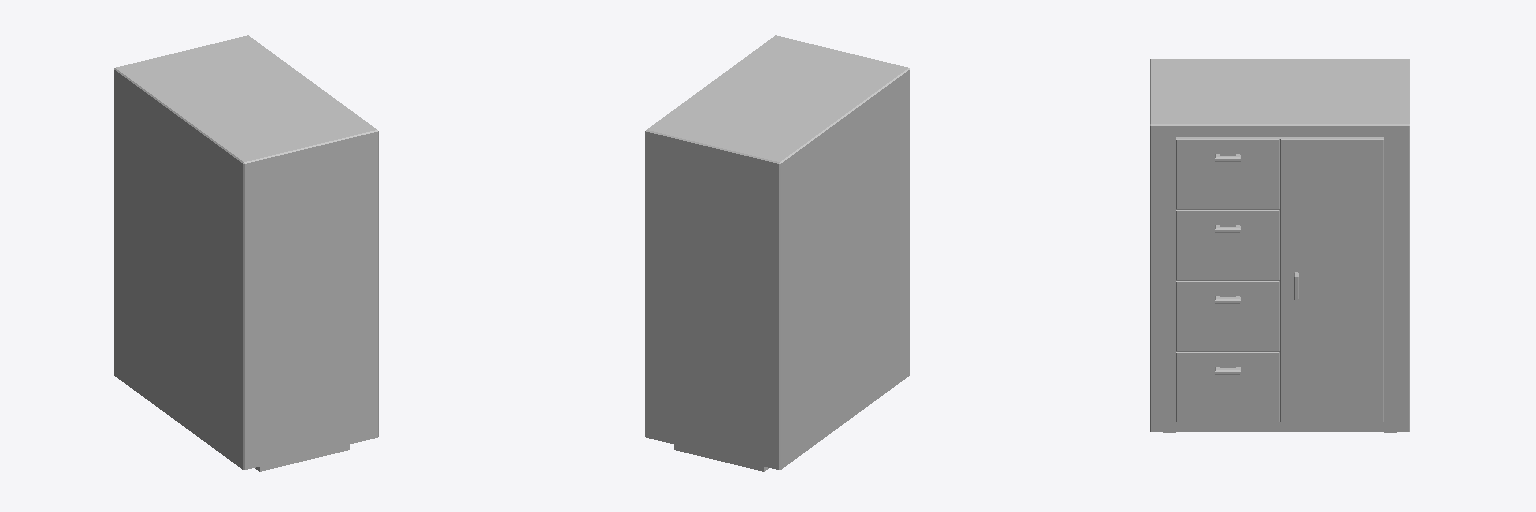
File: cupboard-small.obj
3 renders of one model, left to right at view 1: azimuth 30°, elevation 25°; view 2: azimuth 150°, elevation 25°; view 3: azimuth 270°, elevation 25°, orthographic.
Visible parts, largest first — view 1: cupboard_Cube; view 2: cupboard_Cube; view 3: cupboard_Cube.
Part boxes in pixels (x1,y1,x2,y2): cupboard_Cube: (114, 35, 378, 471); cupboard_Cube: (645, 35, 909, 471); cupboard_Cube: (1150, 59, 1409, 432).
Bounding box in the file's own units: 0.6862 × 1.35 × 1.